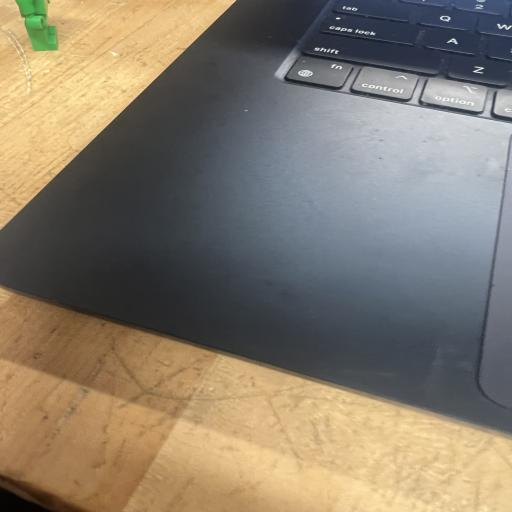green-lego-minifigure-detector: (16, 0, 58, 51)
